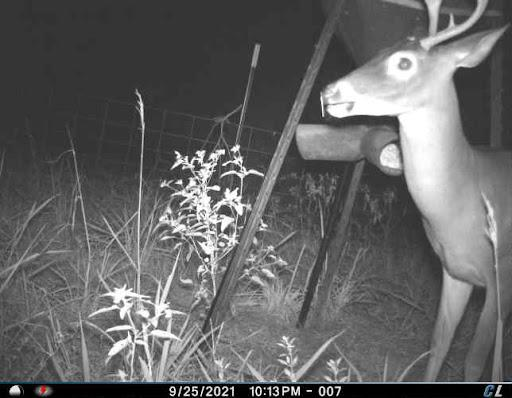Deer: (301, 0, 512, 382)
